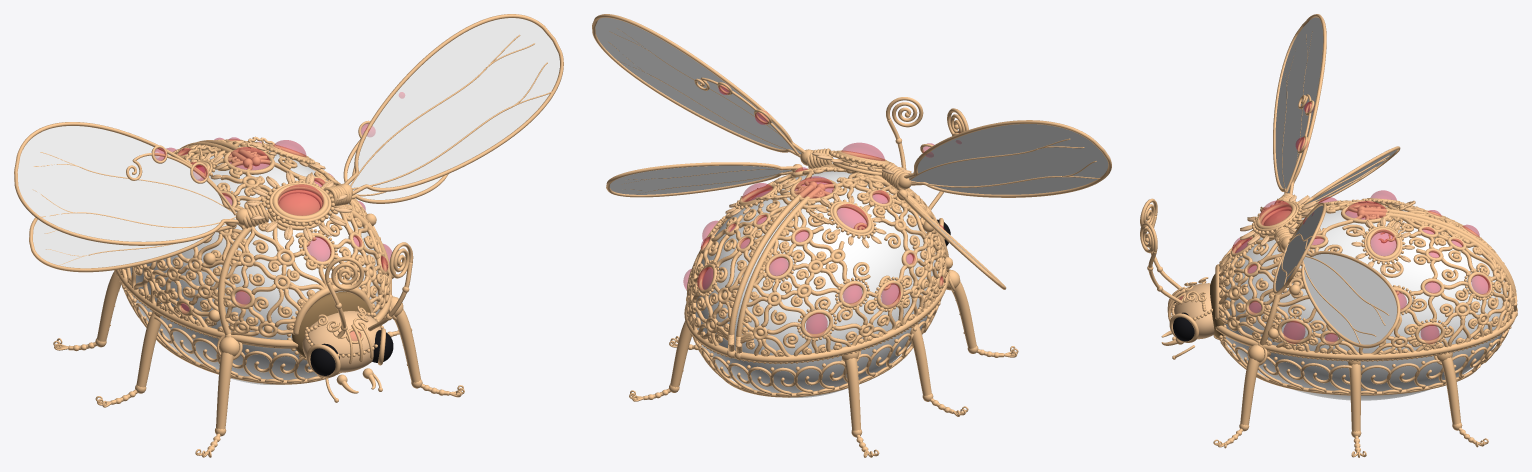
File: ladybug.glb
The picture shows the model from 3 angles, left to right: view 1: azimuth 30°, elevation 25°; view 2: azimuth 150°, elevation 25°; view 3: azimuth 270°, elevation 25°; orthographic projection. The views are drawn at different scales.
Visible parts, largest first — view 1: wingfr_glass, pronotum, wingfl_glass, core, elytronL, head, wingfr_gold, wingfl_gold, winghl_glass, belly, elytronR, winghl_gold (+9 smaller); view 2: elytronL, core, wingfl_glass, elytronR, wingfr_glass, belly, winghr_glass, pronotum, wingfr_gold, wingfl_gold, winghr_gold, antennaR (+7 smaller); view 3: elytronR, core, pronotum, winghr_glass, wingfl_glass, belly, head, wingfl_gold, elytronL, winghr_gold, wingfr_glass, tibiaR1 (+8 smaller).
Part boxes in pixels (x1,y1,x2,y2): wingfr_glass: (349, 18, 559, 190); pronotum: (203, 171, 395, 347); wingfl_glass: (17, 126, 236, 241); core: (126, 145, 380, 384); elytronL: (115, 142, 272, 339); head: (287, 291, 393, 402); wingfr_gold: (344, 14, 563, 195); wingfl_gold: (14, 122, 239, 245); winghl_glass: (33, 219, 226, 268); belly: (120, 280, 385, 384); elytronR: (197, 137, 392, 297); winghl_gold: (29, 217, 236, 272); elytronL: (734, 172, 949, 364); core: (695, 171, 938, 397); wingfl_glass: (909, 124, 1108, 194); elytronR: (683, 164, 852, 358); wingfr_glass: (595, 17, 801, 154); belly: (690, 299, 941, 397); winghr_glass: (609, 165, 791, 194); pronotum: (800, 143, 952, 272); wingfr_gold: (592, 14, 805, 157); wingfl_gold: (904, 120, 1111, 197); winghr_gold: (606, 162, 802, 197); antennaR: (886, 97, 923, 167); elytronR: (1258, 209, 1517, 361); core: (1223, 206, 1507, 400); pronotum: (1215, 193, 1316, 345); winghr_glass: (1303, 254, 1396, 344); wingfl_glass: (1275, 17, 1323, 192); belly: (1219, 326, 1511, 395); head: (1161, 274, 1226, 359); wingfl_gold: (1273, 14, 1326, 194); elytronL: (1301, 190, 1517, 311); winghr_gold: (1301, 250, 1400, 348); wingfr_glass: (1275, 205, 1323, 291); tibiaR1: (1240, 344, 1267, 425).
Size of the model in its own units: 2.32 by 1.27 by 1.58.
